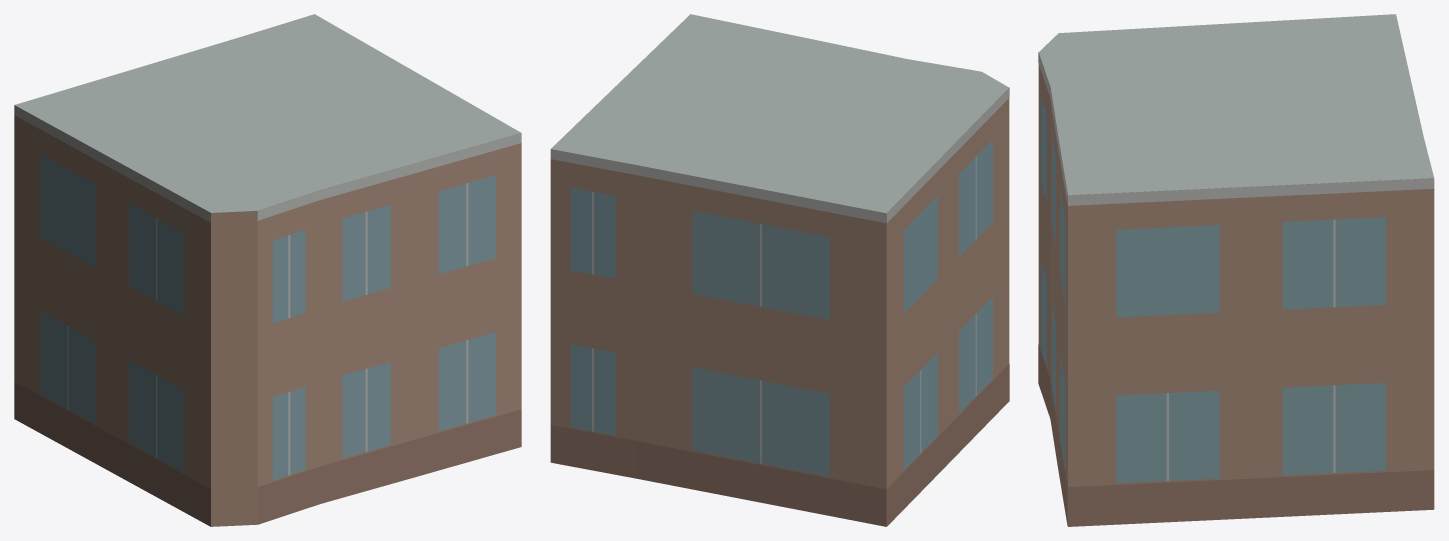
File: survey-upis-32642122.glb
The picture shows the model from 3 angles, left to right: view 1: azimuth 30°, elevation 25°; view 2: azimuth 150°, elevation 25°; view 3: azimuth 270°, elevation 25°; orthographic projection. The views are drawn at different scales.
Visible parts, largest first — view 1: survey-upis-32642122.tmp; view 2: survey-upis-32642122.tmp; view 3: survey-upis-32642122.tmp.
Boxes of the visible parts, x1,y1,x2,y2 form: survey-upis-32642122.tmp: (14,14,521,526); survey-upis-32642122.tmp: (550,14,1009,526); survey-upis-32642122.tmp: (1038,14,1434,526).
Bounding box in the file's own units: 8.93 × 7.6 × 8.23.
